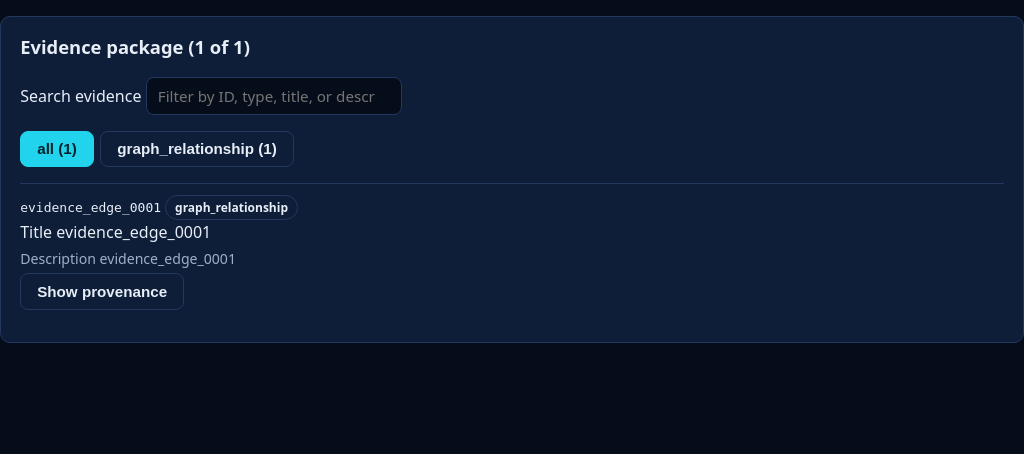
Test: EvidenceList › opens a row to reveal per-item provenance
This screenshot has width=1024, height=454.
Expected: the text "evt_1" is not shown
What coordinates should you click on to do the following:
click the button "Show provenance"
I would click on:
 (102, 292)
Its box is [20,273,184,310].
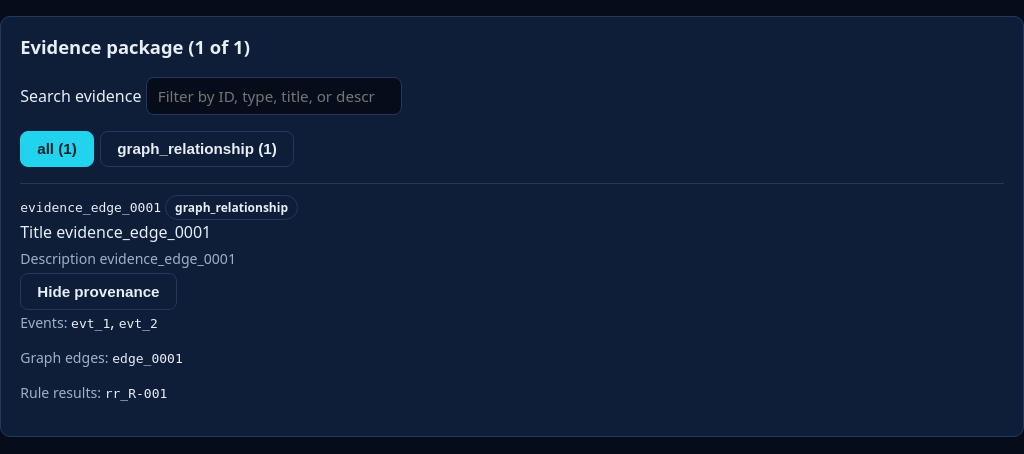
Now the button named "Show provenance" is expanded
Now the text "evt_1" is shown, box [71,316,110,331]
Now the text "evt_2" is shown, box [119,316,158,331]
What coordinates should you click on to do the following:
click the button "Hide provenance"
I would click on:
 (98, 292)
Its box is [20,273,177,310].
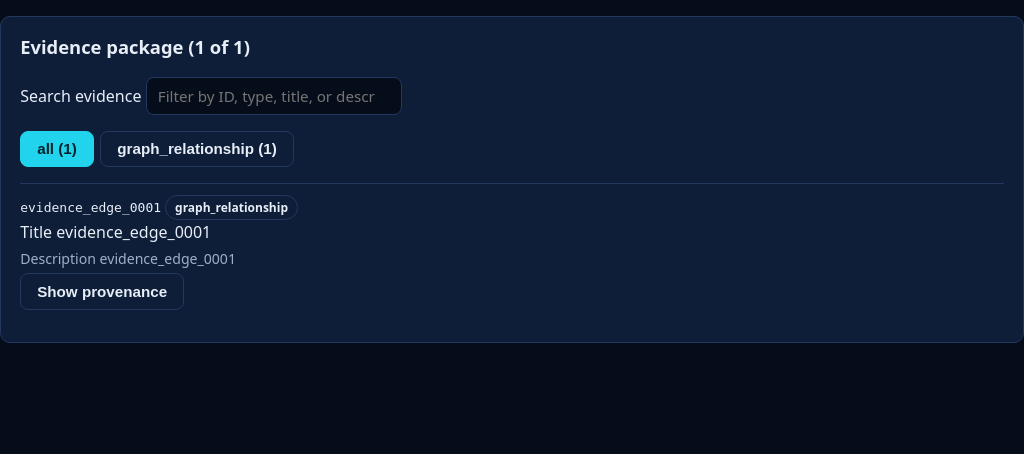
Now the text "evt_1" is gone
